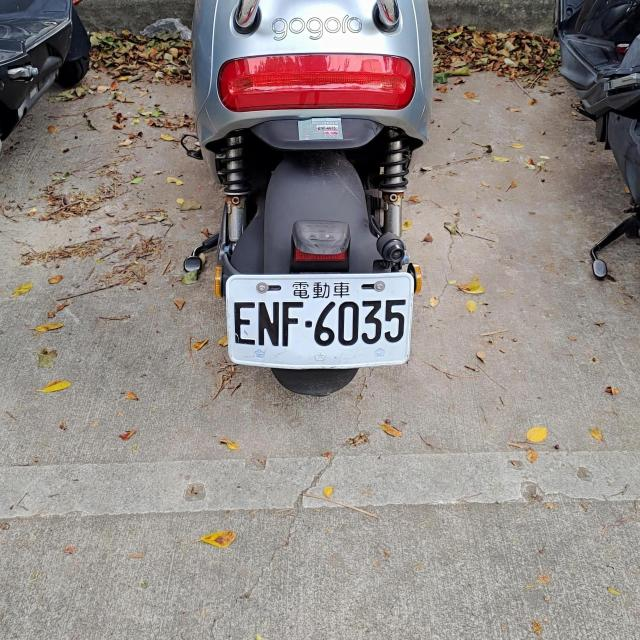W: (224, 274, 415, 369)
